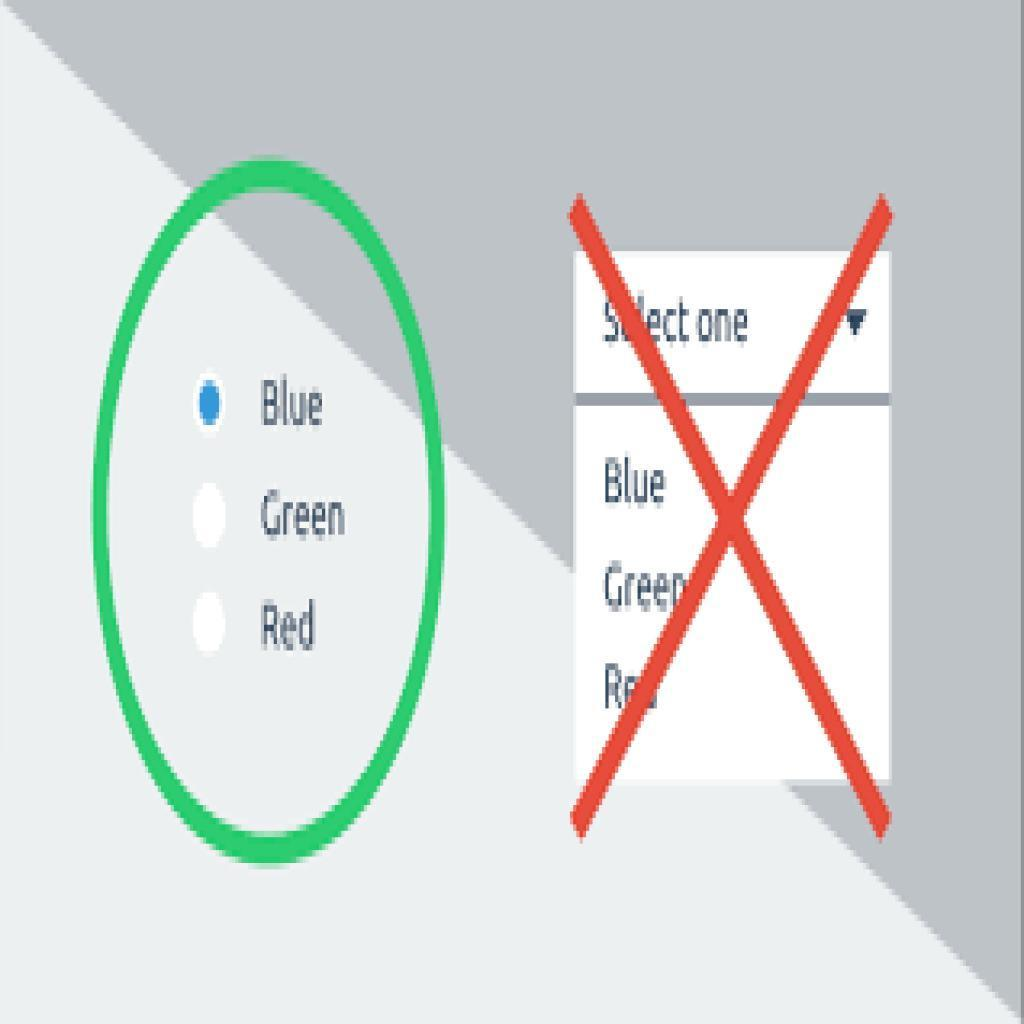label: (598, 560, 693, 618), (260, 485, 346, 544), (598, 451, 672, 512), (260, 368, 327, 433), (255, 594, 322, 658)
radio: (191, 369, 233, 443), (191, 480, 230, 553), (193, 590, 229, 657)
